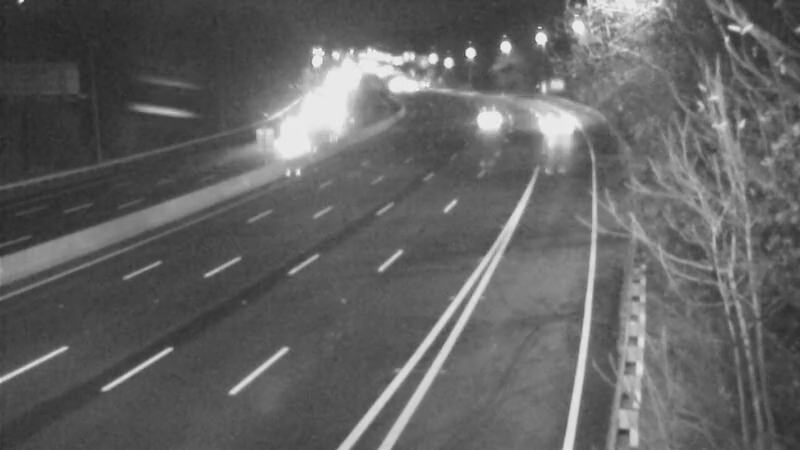vehicle: (530, 95, 580, 145), (468, 82, 518, 132), (262, 111, 312, 161)
